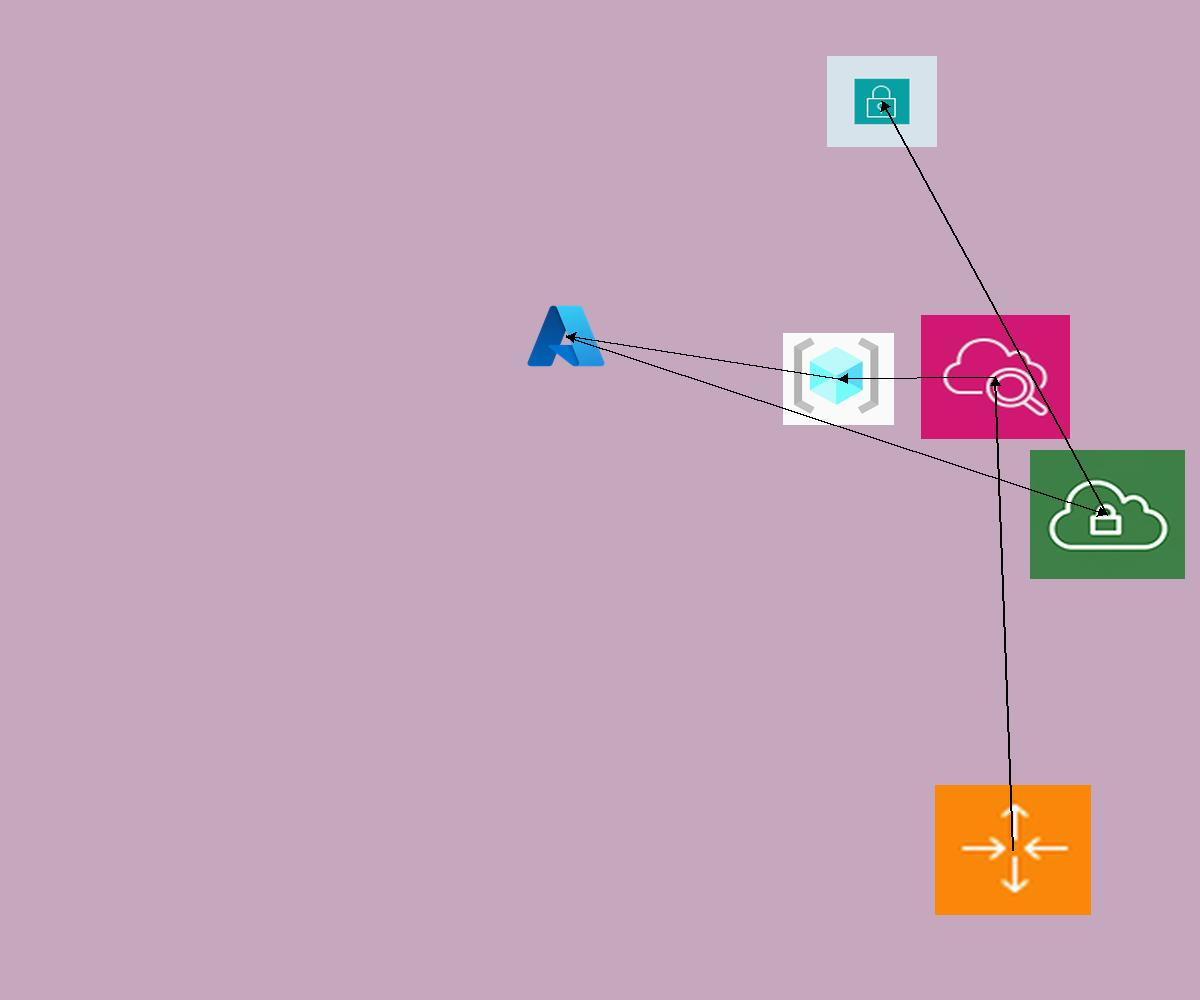AWS-CloudWatch: (921, 315, 1070, 439)
AWS-Private-subnet: (827, 56, 937, 147)
AWS-Private_vpc: (1030, 450, 1185, 579)
AWS-Scaling-group: (935, 785, 1091, 915)
Azure_resource_group: (783, 333, 894, 425)
Azure_services: (524, 301, 608, 371)
